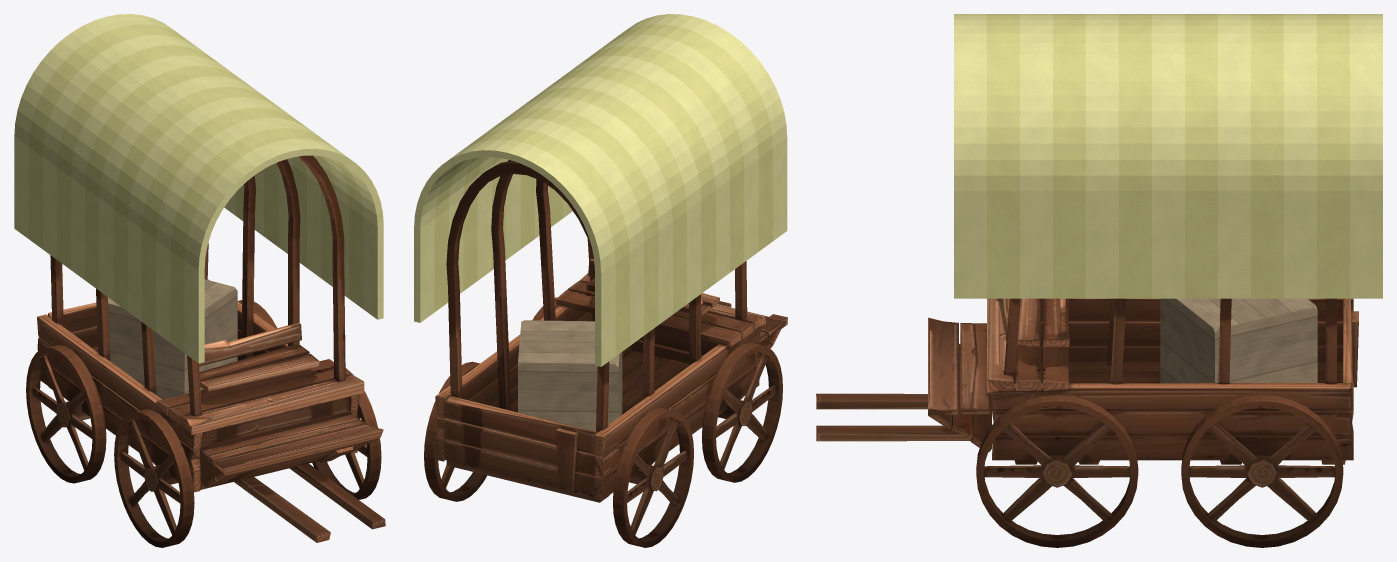
Rendered from fable_t05.glb.
The picture shows the model from 3 angles, left to right: view 1: azimuth 30°, elevation 25°; view 2: azimuth 150°, elevation 25°; view 3: azimuth 270°, elevation 25°; orthographic projection. The views are drawn at different scales.
Parts seen in each view (by area): view 1: canopy_shell, slot_anchor_frame, slot_front_wheels, crate_body; view 2: canopy_shell, slot_anchor_frame, crate_body, slot_front_wheels; view 3: canopy_shell, slot_anchor_frame, crate_body, slot_front_wheels.
Boxes of the visible parts, x1,y1,x2,y2 form: canopy_shell: (14,14,383,363); slot_anchor_frame: (26,155,385,542); slot_front_wheels: (114,368,381,547); crate_body: (107,279,237,399); canopy_shell: (414,14,787,366); slot_anchor_frame: (424,160,787,547); crate_body: (518,320,622,431); slot_front_wheels: (532,297,782,482); canopy_shell: (954,14,1382,298); slot_anchor_frame: (816,298,1358,547); crate_body: (1160,298,1317,383); slot_front_wheels: (976,395,1138,547).
Size of the model in its own units: 0.9611 by 1.86 by 2.05.
Materials: 3 (3 with a texture image).
